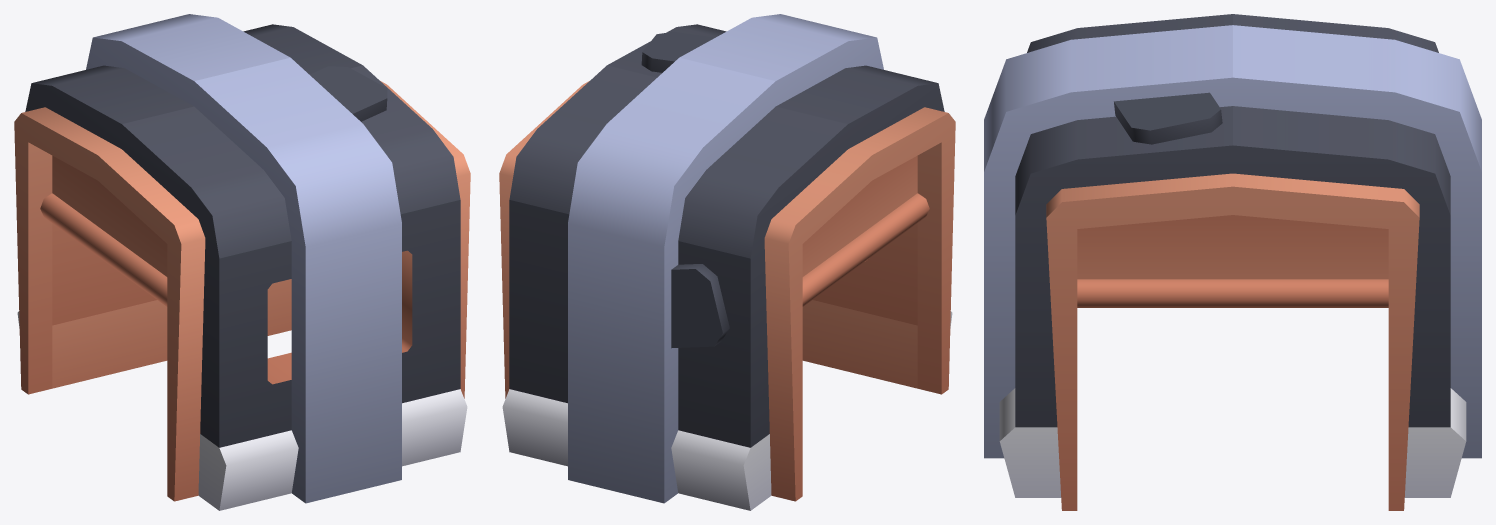
The model's file is machine-fortified.obj.
The picture shows the model from 3 angles, left to right: view 1: azimuth 30°, elevation 25°; view 2: azimuth 150°, elevation 25°; view 3: azimuth 270°, elevation 25°; orthographic projection. The views are drawn at different scales.
Visible parts, largest first — view 1: machine-fortified; view 2: machine-fortified; view 3: machine-fortified.
Boxes of the visible parts, bbox=[...] form: machine-fortified: bbox=[14, 14, 470, 510]; machine-fortified: bbox=[499, 14, 955, 510]; machine-fortified: bbox=[984, 14, 1481, 510].
Bounding box in the file's own units: 1.2 × 1.35 × 1.6.
